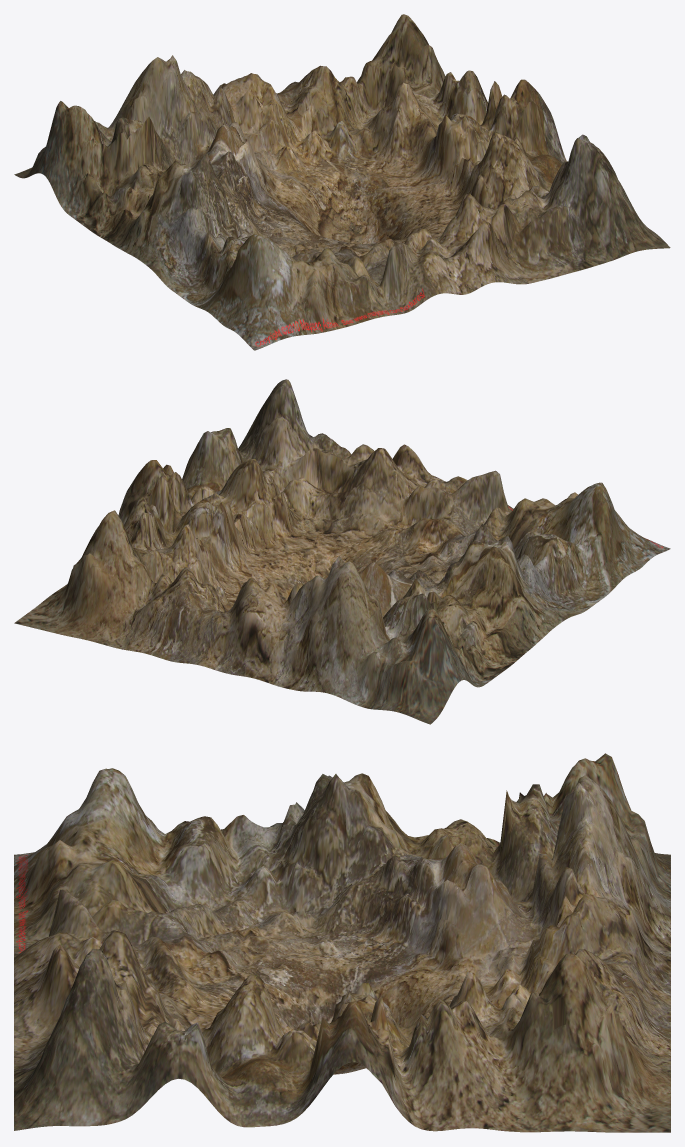
File: terrain.FBX
3 renders of one model, top to bottom at view 1: azimuth 30°, elevation 25°; view 2: azimuth 150°, elevation 25°; view 3: azimuth 270°, elevation 25°, orthographic. The views are drawn at different scales.
Visible parts, largest first — view 1: Plane001; view 2: Plane001; view 3: Plane001.
Boxes of the visible parts, bbox=[...] form: Plane001: bbox=[14, 14, 670, 350]; Plane001: bbox=[14, 379, 670, 724]; Plane001: bbox=[14, 753, 670, 1132].
Size of the model in its own units: 500 by 187 by 500.
Materials: 1 (1 with a texture image).
